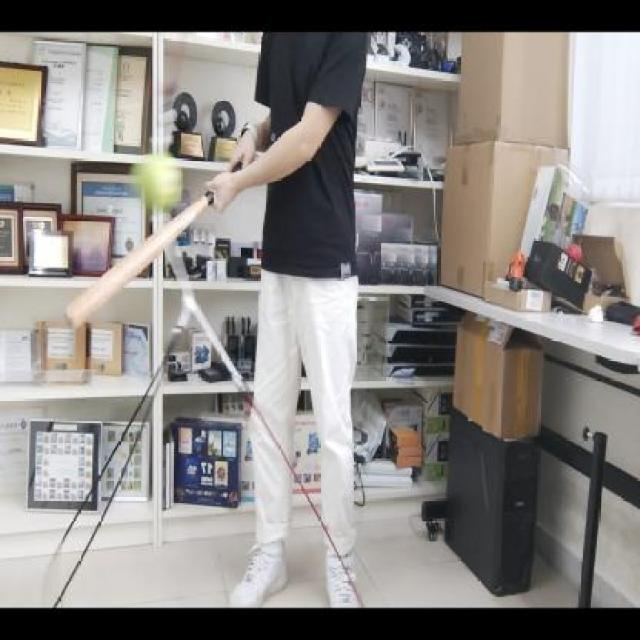baseball: (128, 151, 186, 211)
